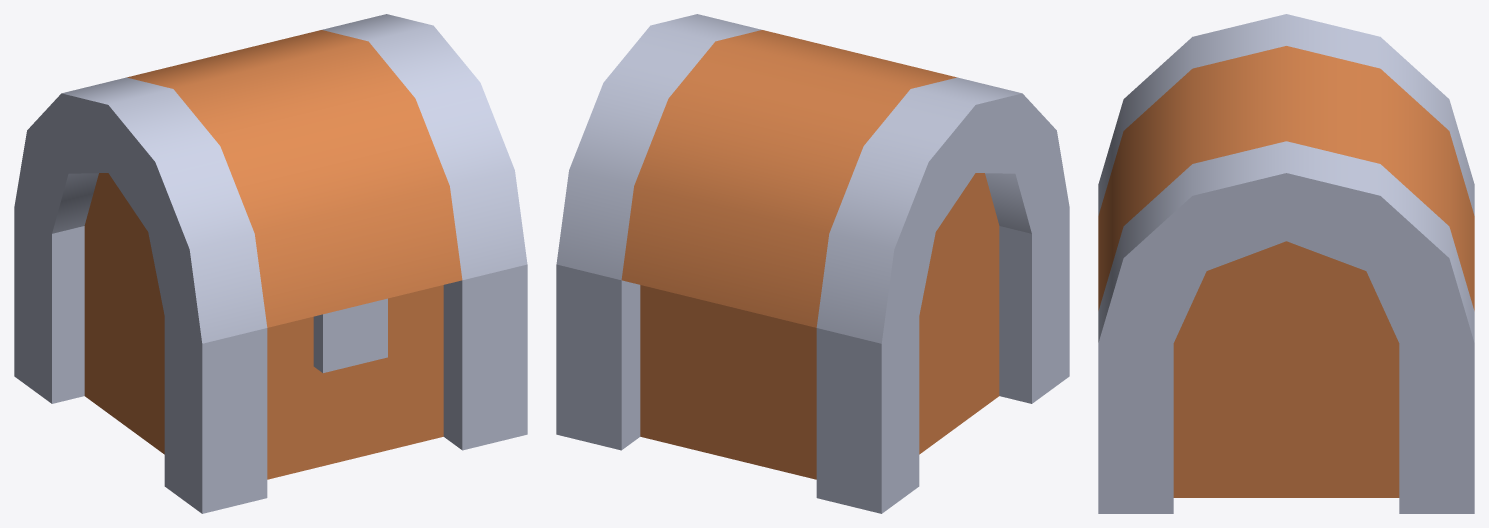
File: chest.obj
The picture shows the model from 3 angles, left to right: view 1: azimuth 30°, elevation 25°; view 2: azimuth 150°, elevation 25°; view 3: azimuth 270°, elevation 25°; orthographic projection.
Visible parts, largest first — view 1: lid, chest; view 2: lid, chest; view 3: lid, chest.
Boxes of the visible parts, bbox=[...] form: lid: bbox=[14, 14, 527, 343]; chest: bbox=[14, 206, 527, 513]; lid: bbox=[556, 14, 1069, 343]; chest: bbox=[556, 206, 1069, 513]; lid: bbox=[1098, 14, 1474, 343]; chest: bbox=[1098, 327, 1474, 513].
Size of the model in its own units: 0.5 by 0.5 by 0.5.
